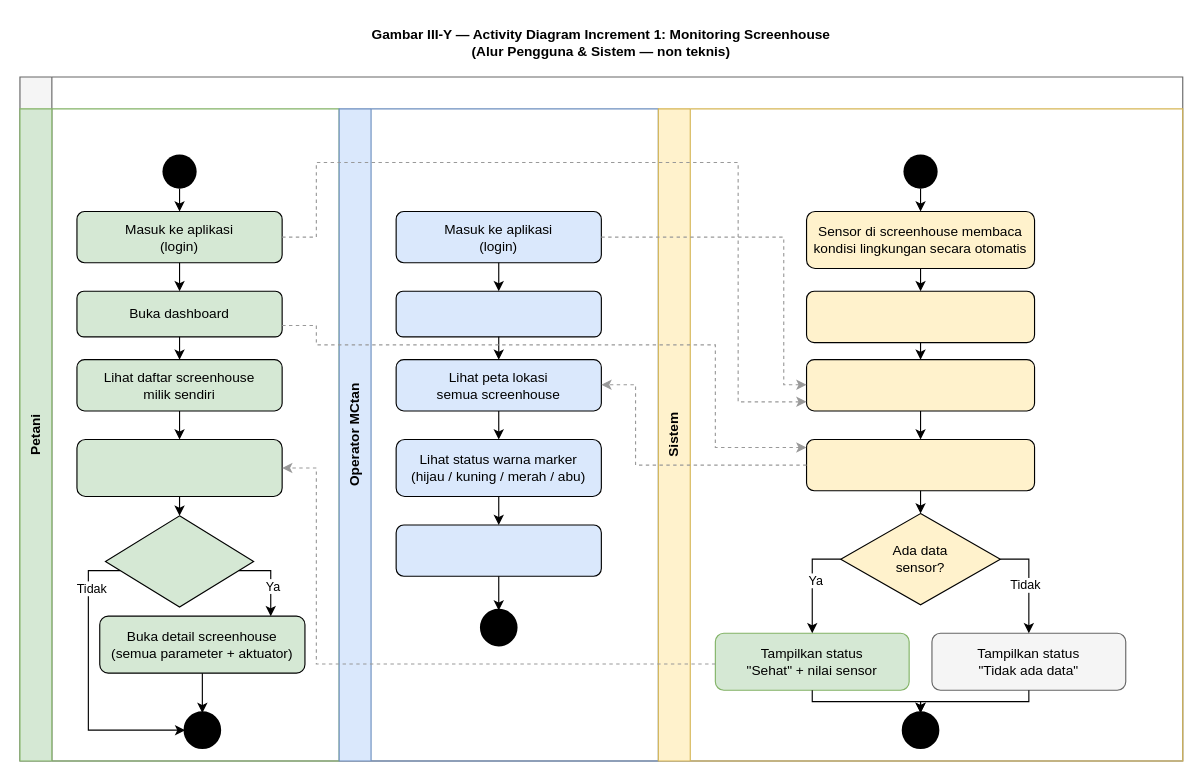
Image size: 1203x781. Some labels were removed from this diagram. Each missing label, with the centre of its shape:
"Buka dashboard operator" belongs at point 498,313.
"Filter screenhouse berdasarkan provinsi" belongs at point 498,550.
"Ingin lihat detail?" belongs at point 179,561.
"Lihat kondisi sensor (NPK, suhu, kelembaban, dll.)" belongs at point 179,467.
"Sistem menampilkan data sesuai role pengguna" belongs at point 920,464.
"Sistem menerima & menyimpan data sensor terbaru" belongs at point 920,316.
"Sistem verifikasi identitas pengguna yang login" belongs at point 920,385.
